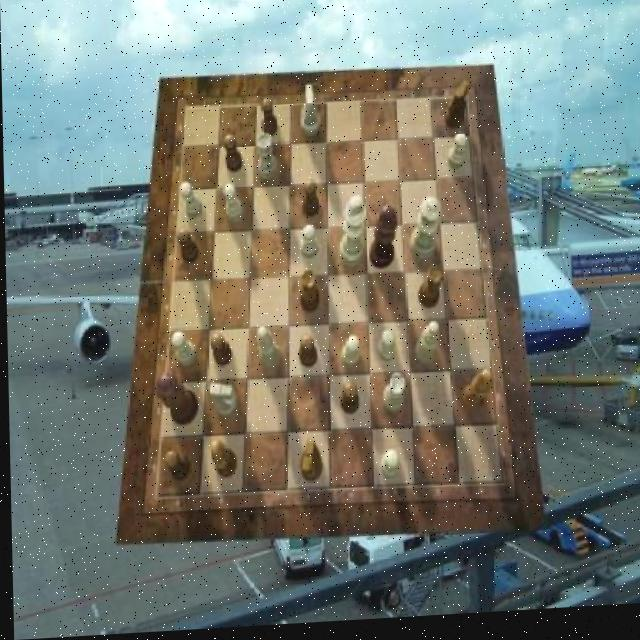bishop: (459, 374, 490, 417), (208, 442, 236, 481)
black-bishop: (367, 209, 397, 275)
black-king: (443, 87, 470, 136), (299, 442, 323, 486)
black-knight: (176, 229, 200, 266), (163, 451, 188, 485), (209, 334, 231, 369), (223, 137, 242, 176), (260, 101, 278, 140), (302, 183, 320, 221), (297, 338, 317, 372), (338, 385, 358, 418)
black-pawn: (154, 373, 198, 429)
black-queen: (416, 270, 443, 314), (299, 273, 320, 318)
black-rook: (255, 329, 280, 374), (414, 326, 439, 370)
white-bishop: (338, 200, 366, 274)
white-king: (300, 86, 320, 140), (207, 385, 237, 420)
white-knight: (171, 333, 196, 370), (179, 183, 201, 222), (223, 188, 244, 226), (446, 137, 466, 176), (299, 227, 318, 262), (339, 341, 358, 373), (377, 334, 395, 367), (378, 454, 397, 483)
white-pawn: (409, 201, 442, 267)
white-queen: (381, 379, 405, 420), (257, 137, 277, 184)
